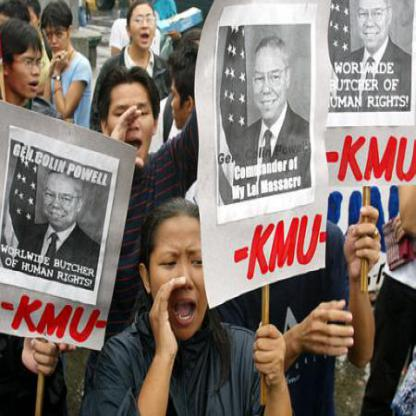face: (150, 203, 216, 342), (109, 71, 156, 170), (254, 39, 290, 122), (10, 26, 46, 102), (45, 169, 79, 231), (358, 1, 390, 51), (132, 5, 158, 52), (46, 12, 69, 57)
